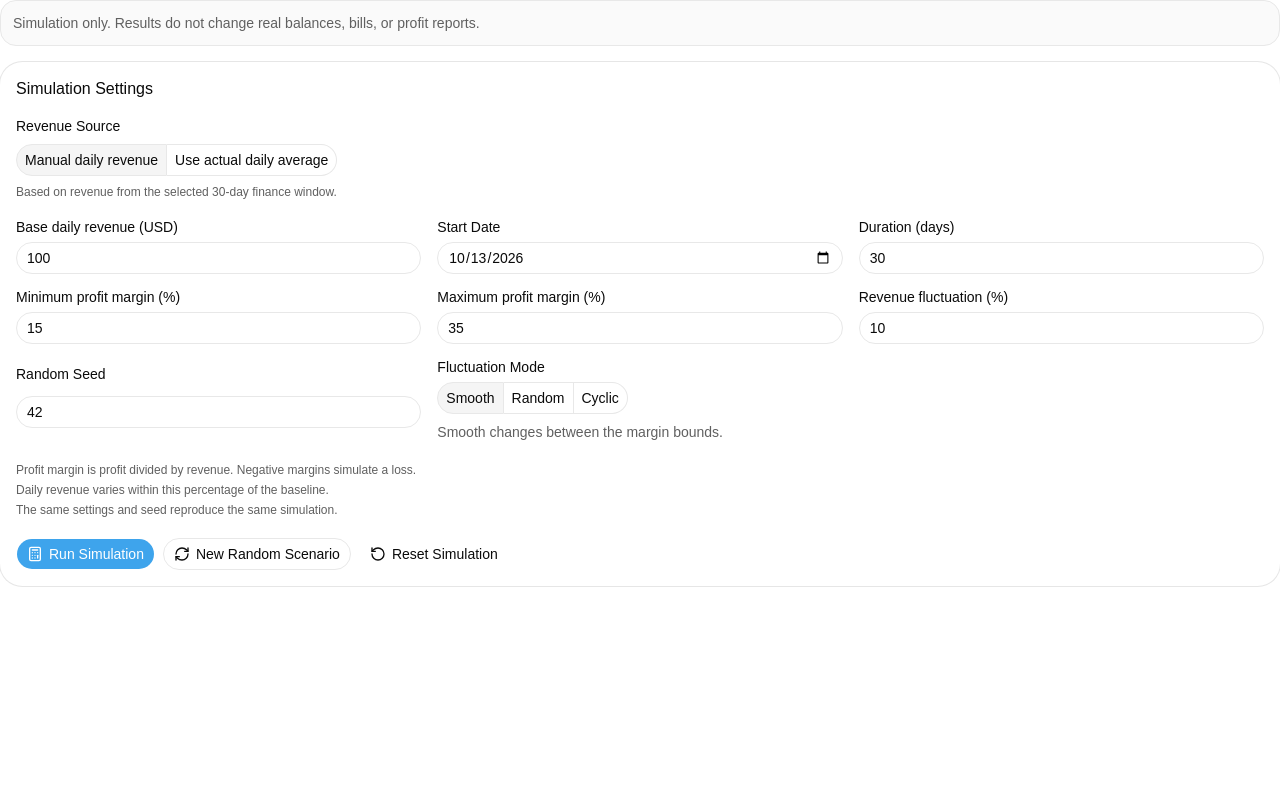
rejects an inverted margin range with a field error and does not generate results
Replace the text in the number field labelled "Minimum profit margin (%)" with "50": coordinates (219, 328) [16,312,421,344]
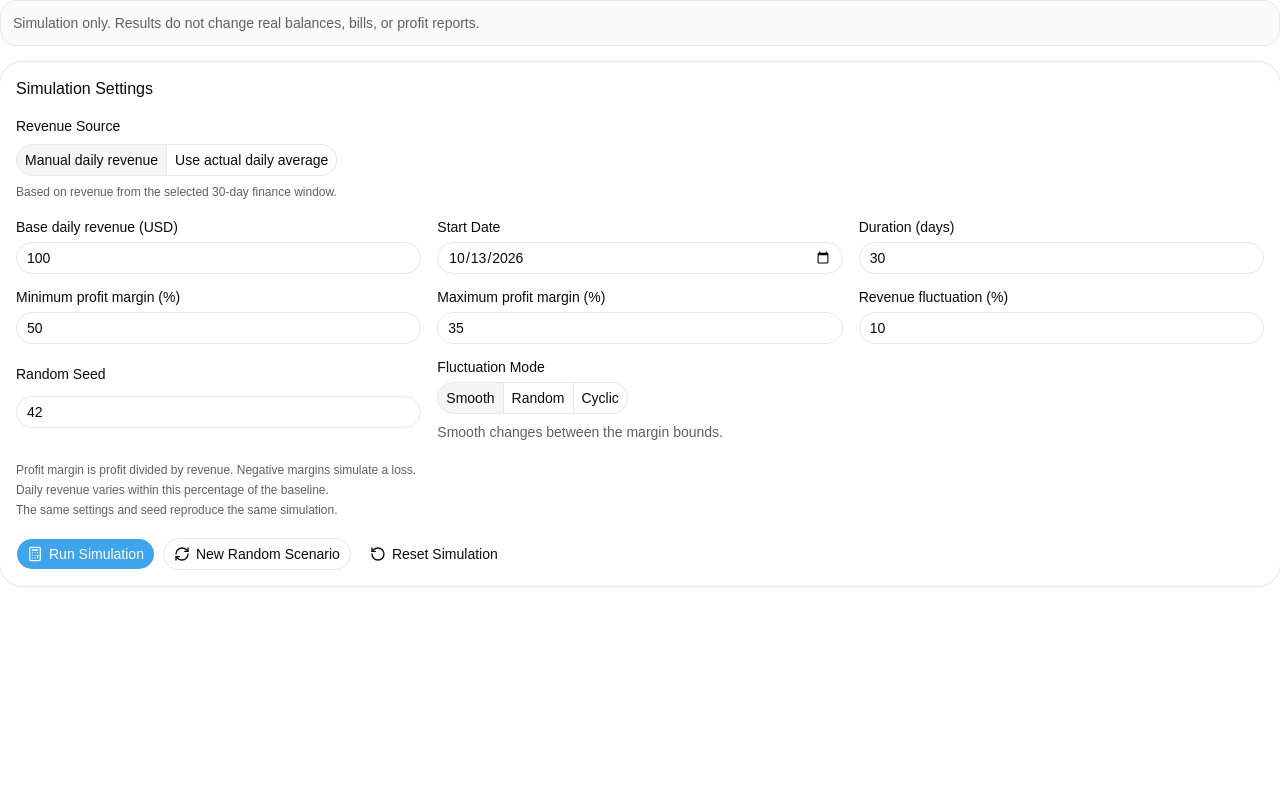
Replace the text in the number field labelled "Maximum profit margin (%)" with "10": coordinates (640, 328) [437,312,843,344]
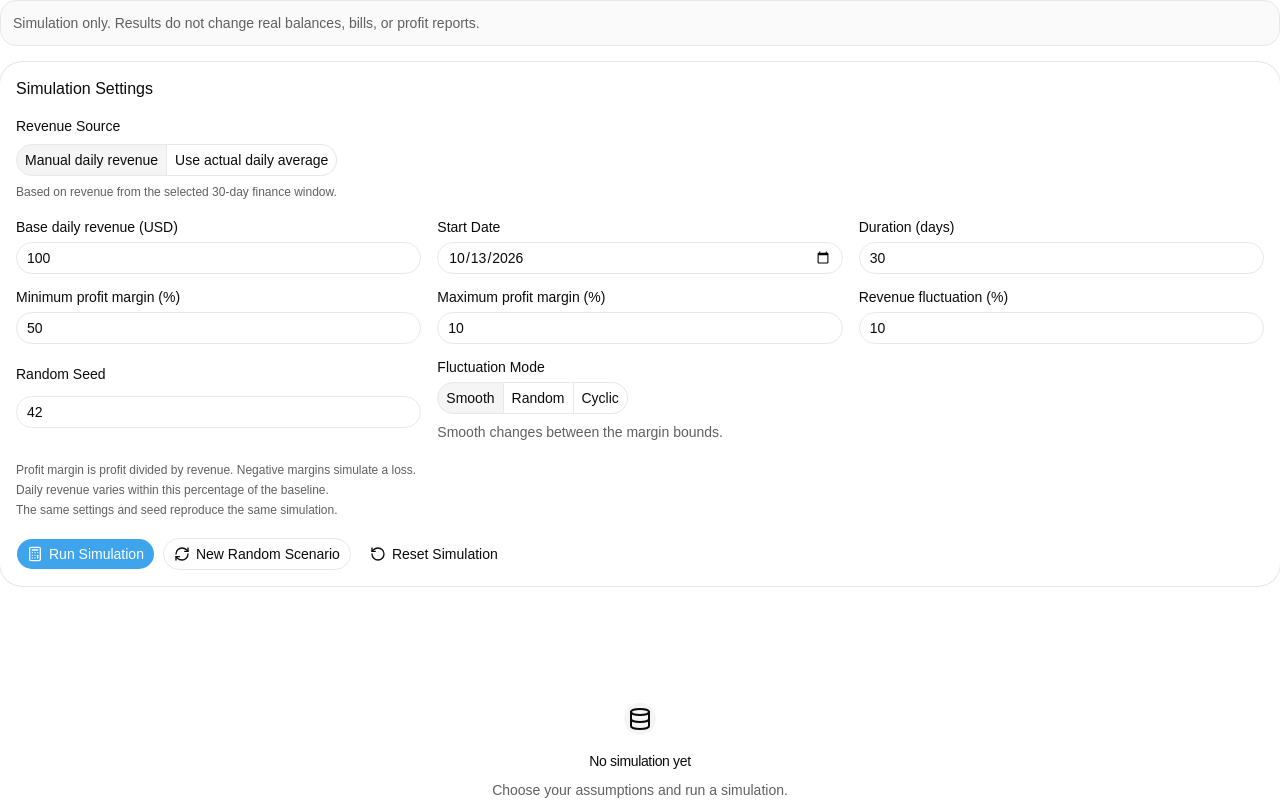
Click the button "Run Simulation": coordinates (85, 554) [16,538,155,570]
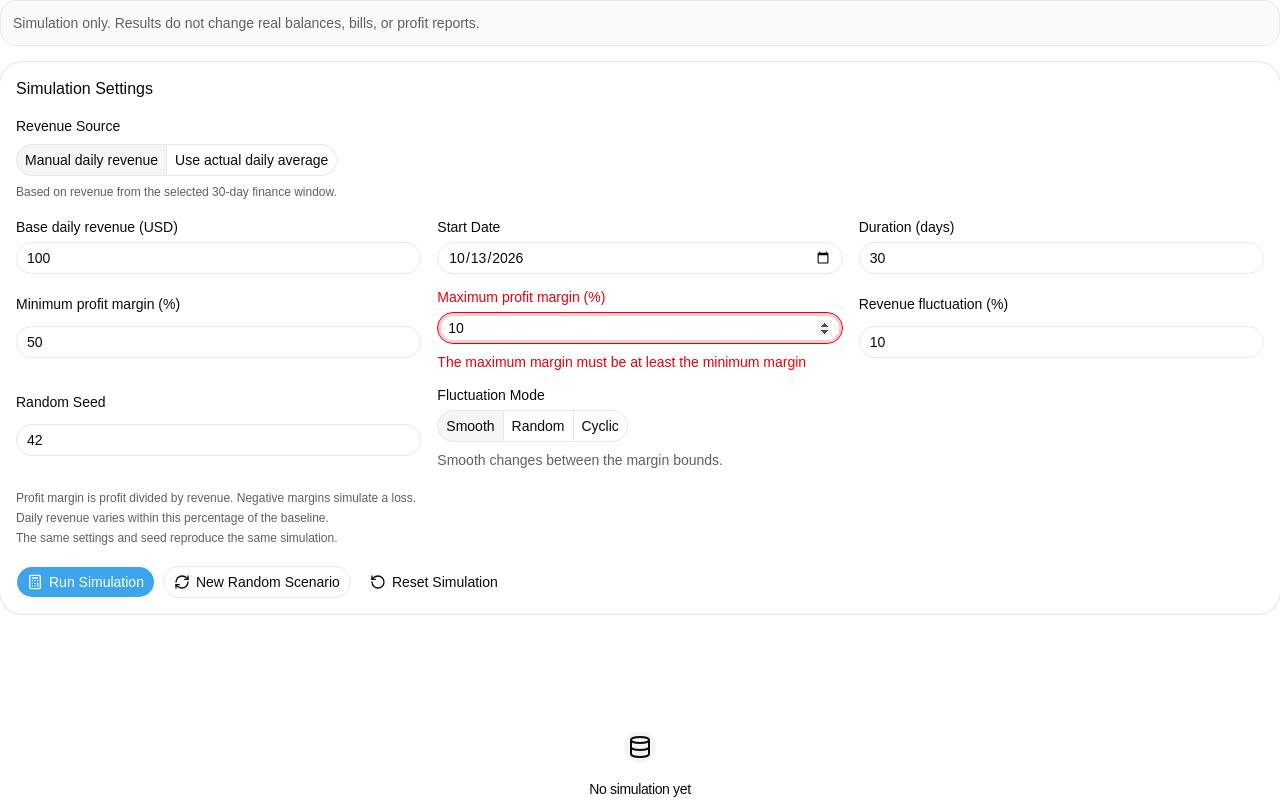
Check: the text "No simulation yet" is shown, box [589,779,691,799]
Check: the text "The maximum margin must be at least the minimum margin" is shown, box [437,352,843,372]
